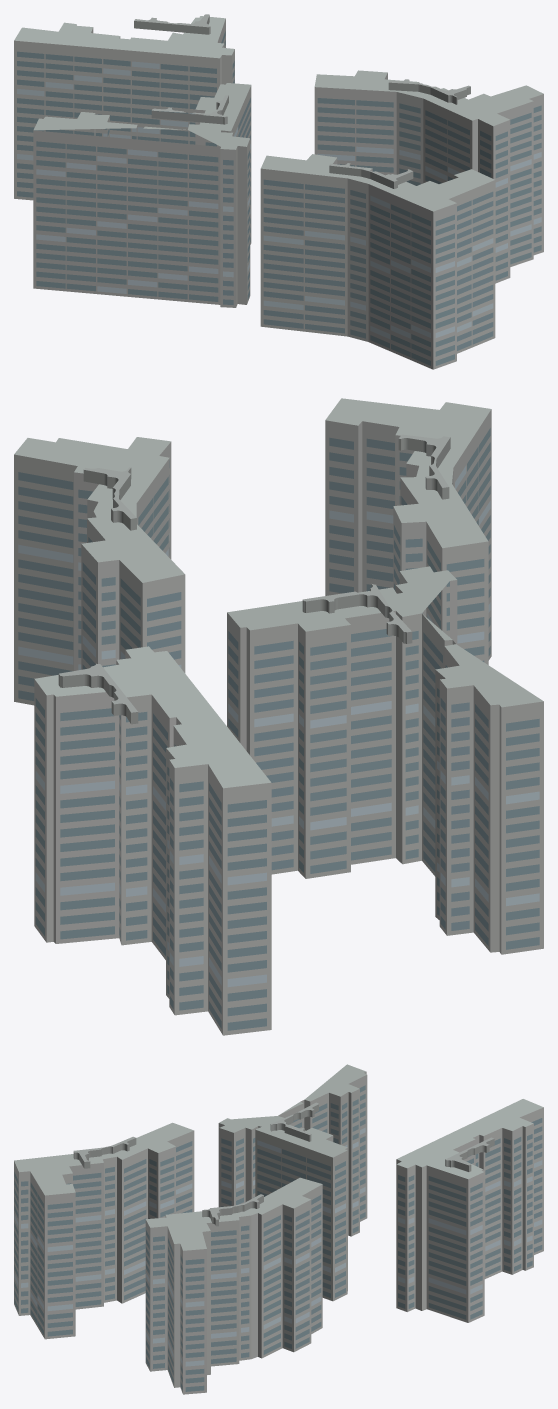
The model's file is apt-a10024927.glb.
The picture shows the model from 3 angles, top to bottom: view 1: azimuth 30°, elevation 25°; view 2: azimuth 150°, elevation 25°; view 3: azimuth 270°, elevation 25°; orthographic projection. The views are drawn at different scales.
Parts seen in each view (by area): view 1: apt-a10024927; view 2: apt-a10024927; view 3: apt-a10024927.
Part boxes in pixels (left/top/right/bottom): apt-a10024927: left=14, top=14, right=543, bottom=369; apt-a10024927: left=14, top=398, right=543, bottom=1035; apt-a10024927: left=14, top=1064, right=543, bottom=1394.
Bounding box in the file's own units: 135 × 51 × 163.
